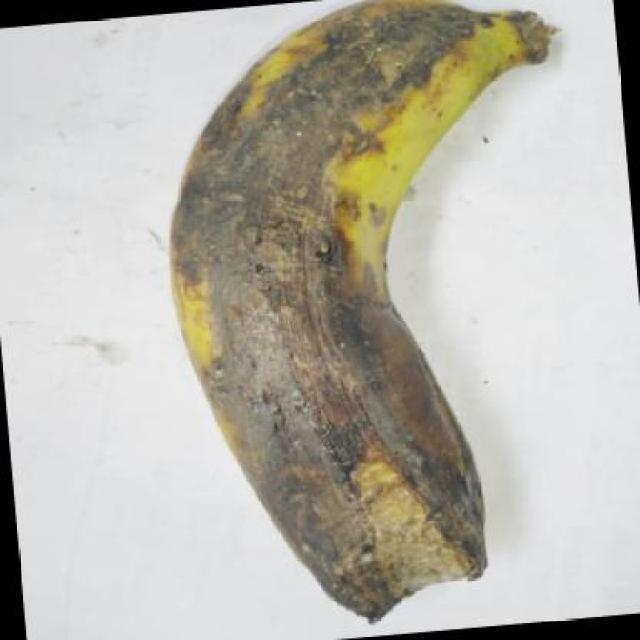rotten: (144, 0, 603, 640)
